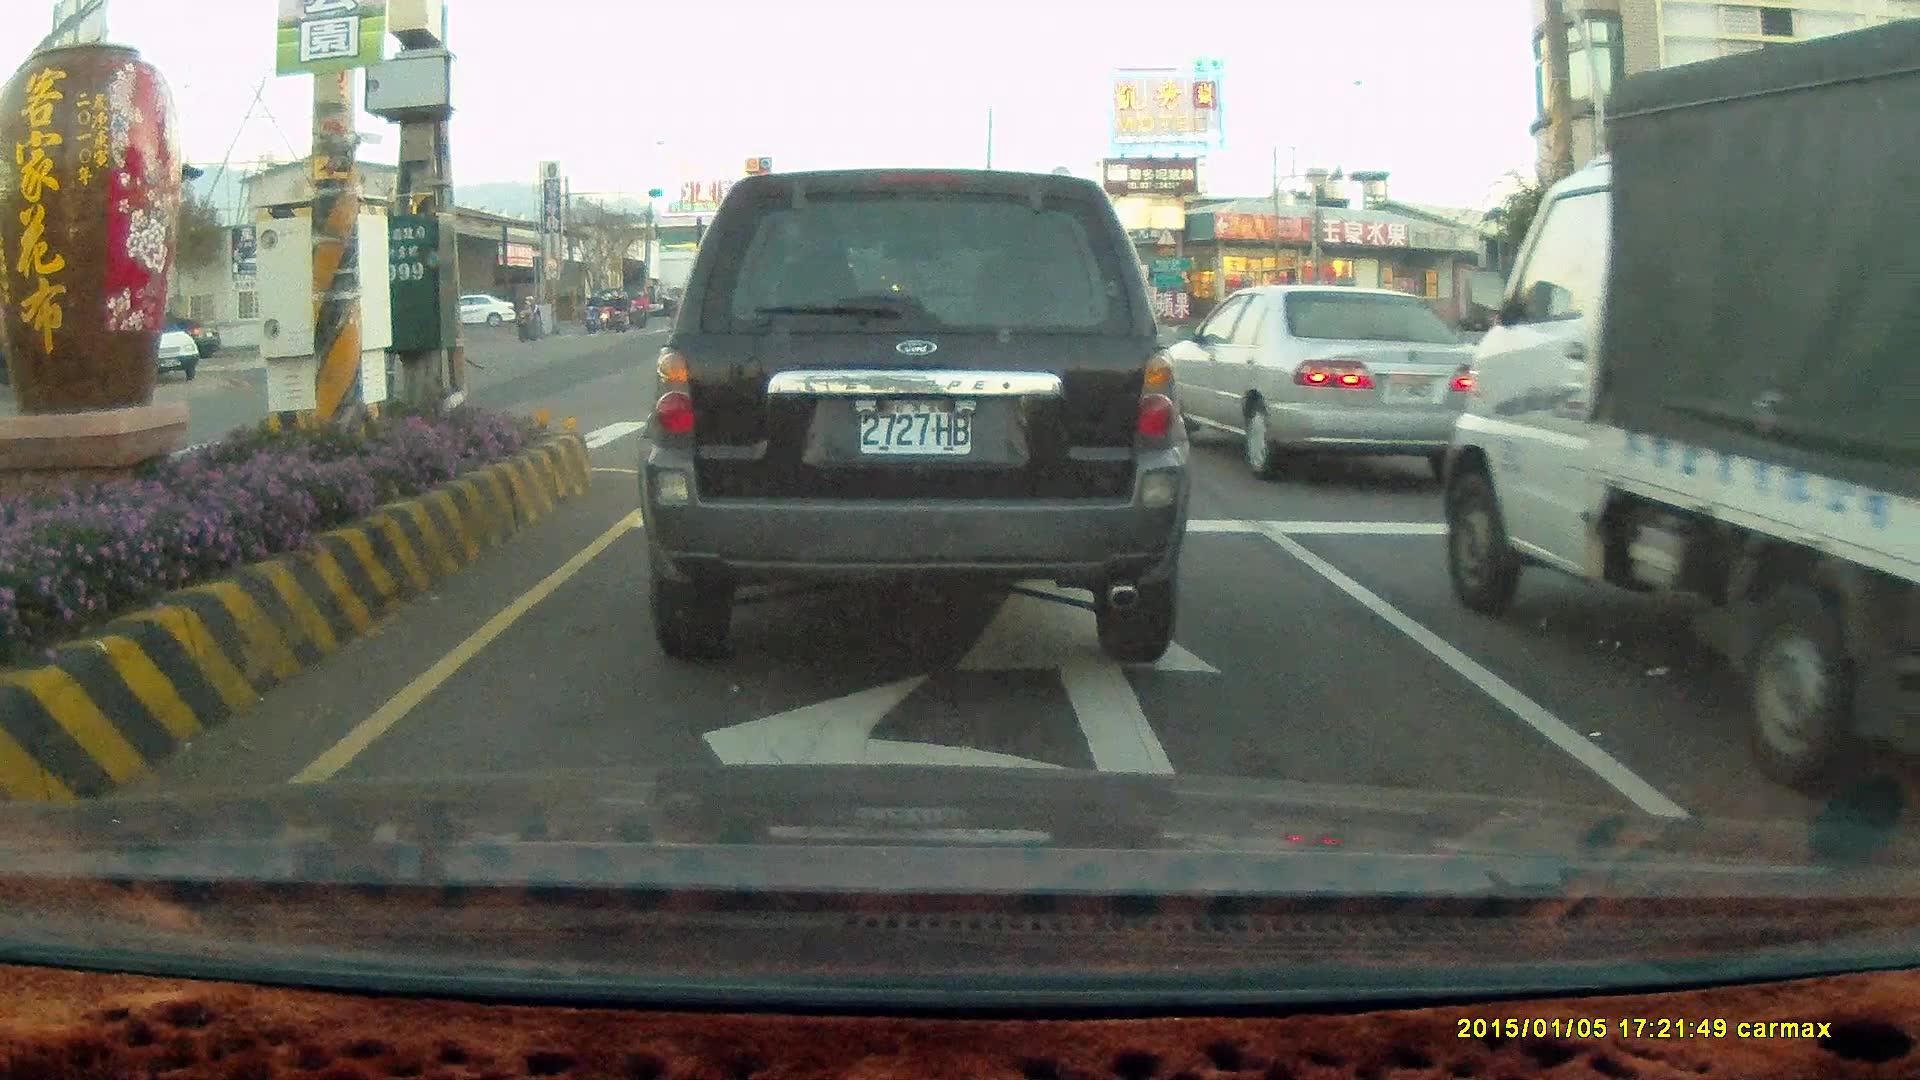rider: (509, 294, 541, 342), (609, 289, 635, 337), (581, 291, 602, 337), (586, 294, 608, 334)
vehicle: (1443, 14, 1920, 801), (635, 166, 1189, 663), (1155, 281, 1496, 481), (1141, 287, 1477, 479), (1682, 283, 1839, 372), (114, 309, 200, 387), (448, 296, 515, 329)
